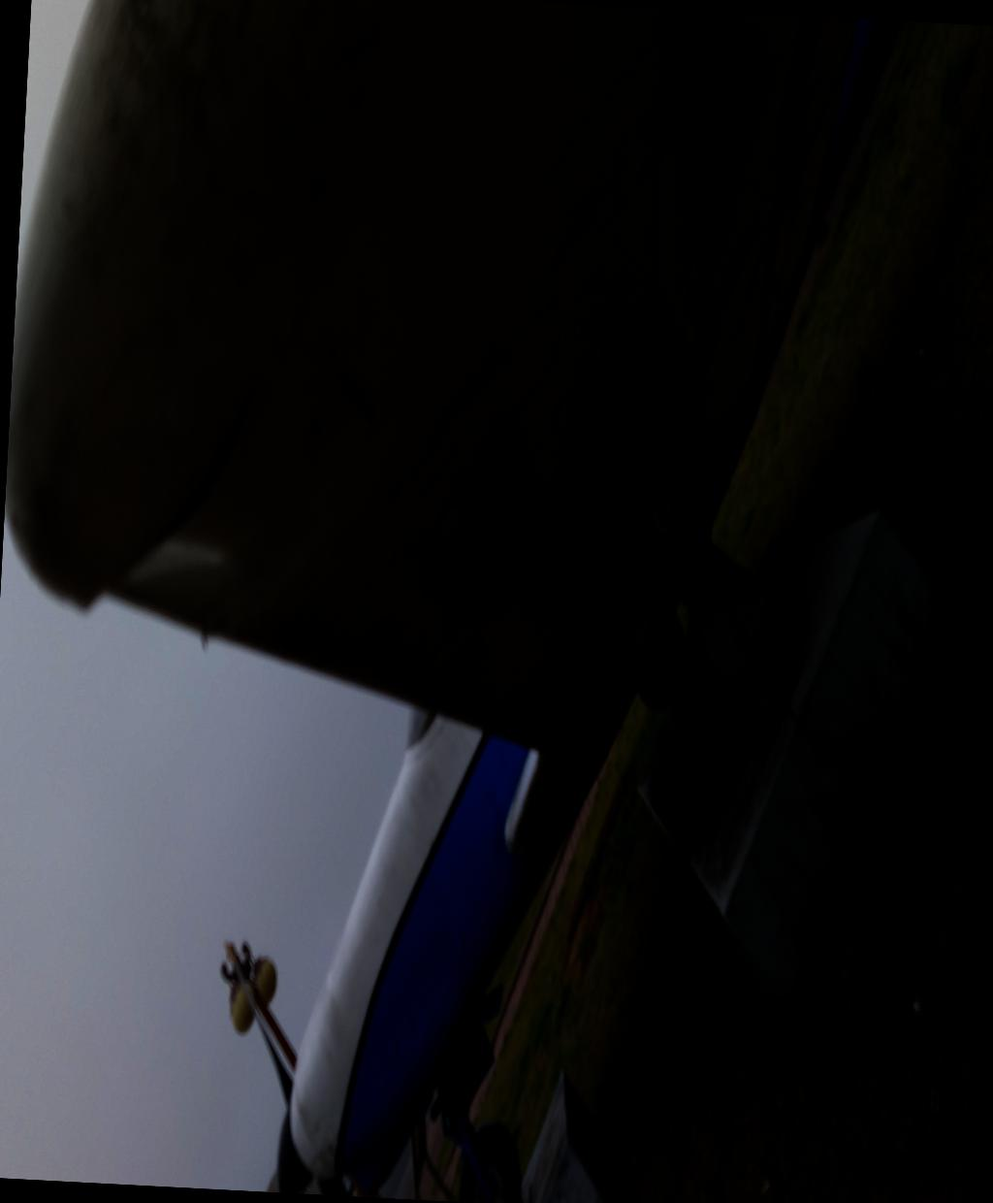dent: (193, 408, 267, 666)
